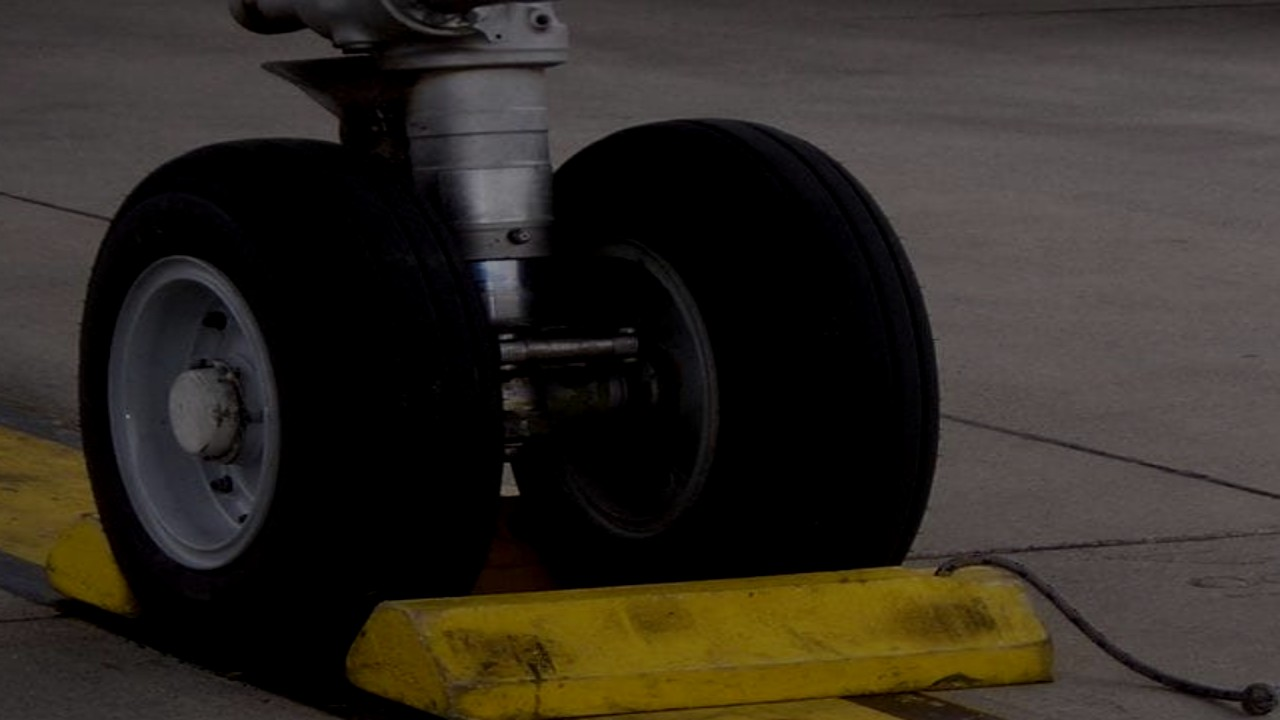chock: (338, 561, 1048, 720)
wheel: (76, 138, 488, 672), (522, 117, 944, 587)
